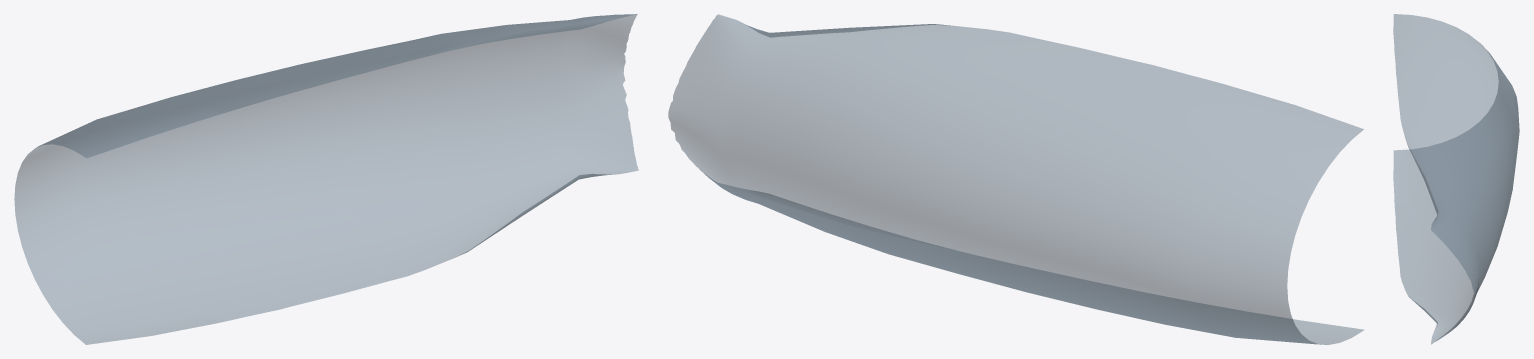
File: canopy_glass_outer.fbx
3 renders of one model, left to right at view 1: azimuth 30°, elevation 25°; view 2: azimuth 150°, elevation 25°; view 3: azimuth 270°, elevation 25°, orthographic. The views are drawn at different scales.
Visible parts, largest first — view 1: canopy_glass_outer; view 2: canopy_glass_outer; view 3: canopy_glass_outer.
Part boxes in pixels (x1=…): canopy_glass_outer: x1=14, y1=14, x2=638, y2=344; canopy_glass_outer: x1=668, y1=14, x2=1363, y2=344; canopy_glass_outer: x1=1393, y1=14, x2=1519, y2=344.
Bounding box in the file's own units: 2.46 × 0.8495 × 0.621.
